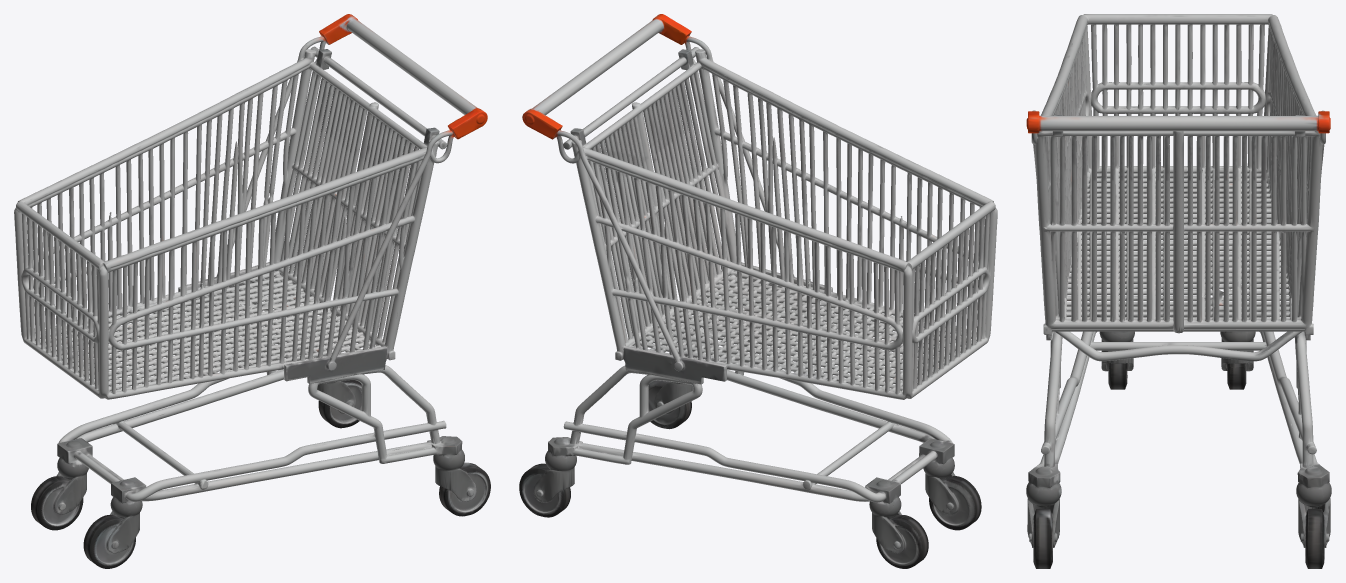
File: 5_shopping_cart.fbx
3 renders of one model, left to right at view 1: azimuth 30°, elevation 25°; view 2: azimuth 150°, elevation 25°; view 3: azimuth 270°, elevation 25°, orthographic. The views are drawn at different scales.
Parts seen in each view (by area): view 1: texture_pbr_v128; view 2: texture_pbr_v128; view 3: texture_pbr_v128.
Part boxes in pixels (bbox=[...]): texture_pbr_v128: bbox=[14, 14, 490, 568]; texture_pbr_v128: bbox=[519, 14, 997, 568]; texture_pbr_v128: bbox=[1026, 14, 1331, 568].
Size of the model in its own units: 77.94 by 81.14 by 49.37.
Materials: 1 (1 with a texture image).
